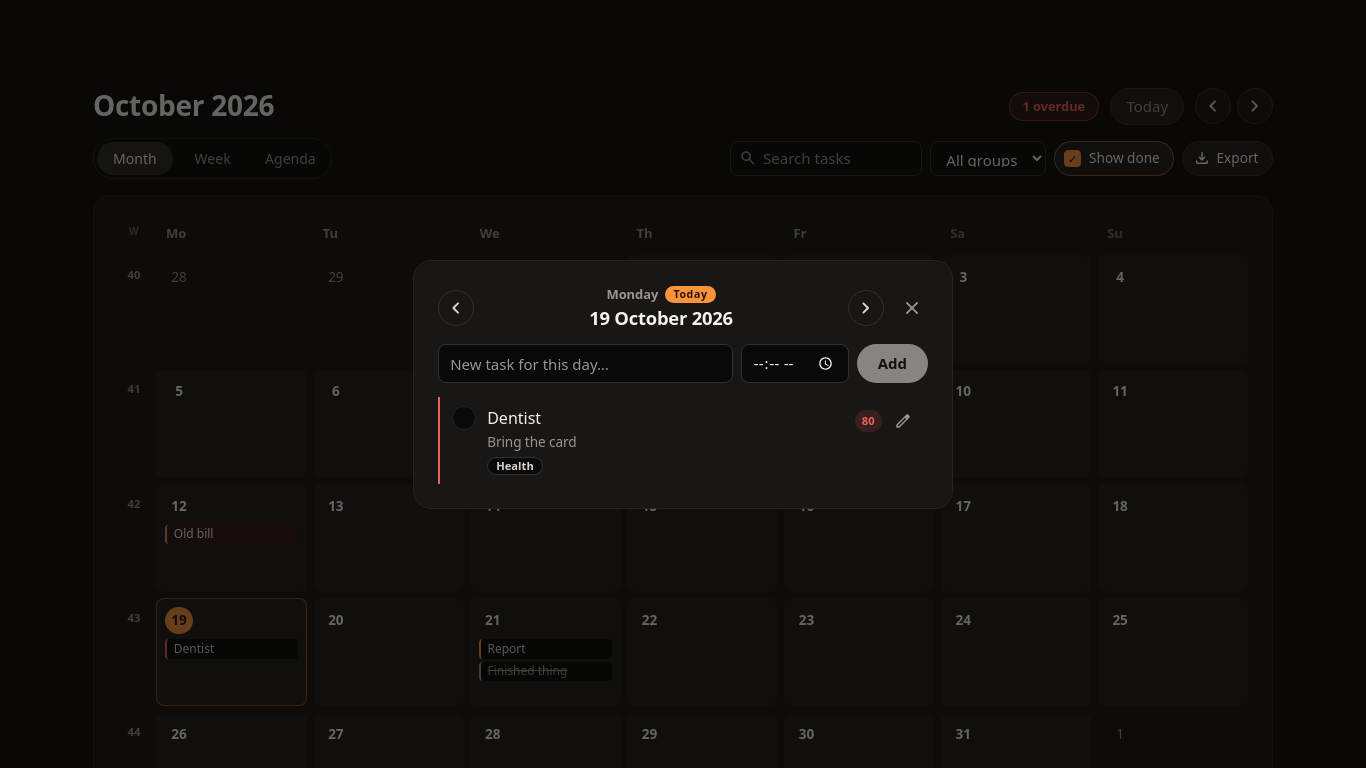
Test: day panel › opens from the address, goes to the next day and closes with Escape
This screenshot has width=1366, height=768.
Expected: the dialog shows "19 October 2026", [589,305,733,330]
Click the button named "Next day": (866, 307) [848,289,884,325]
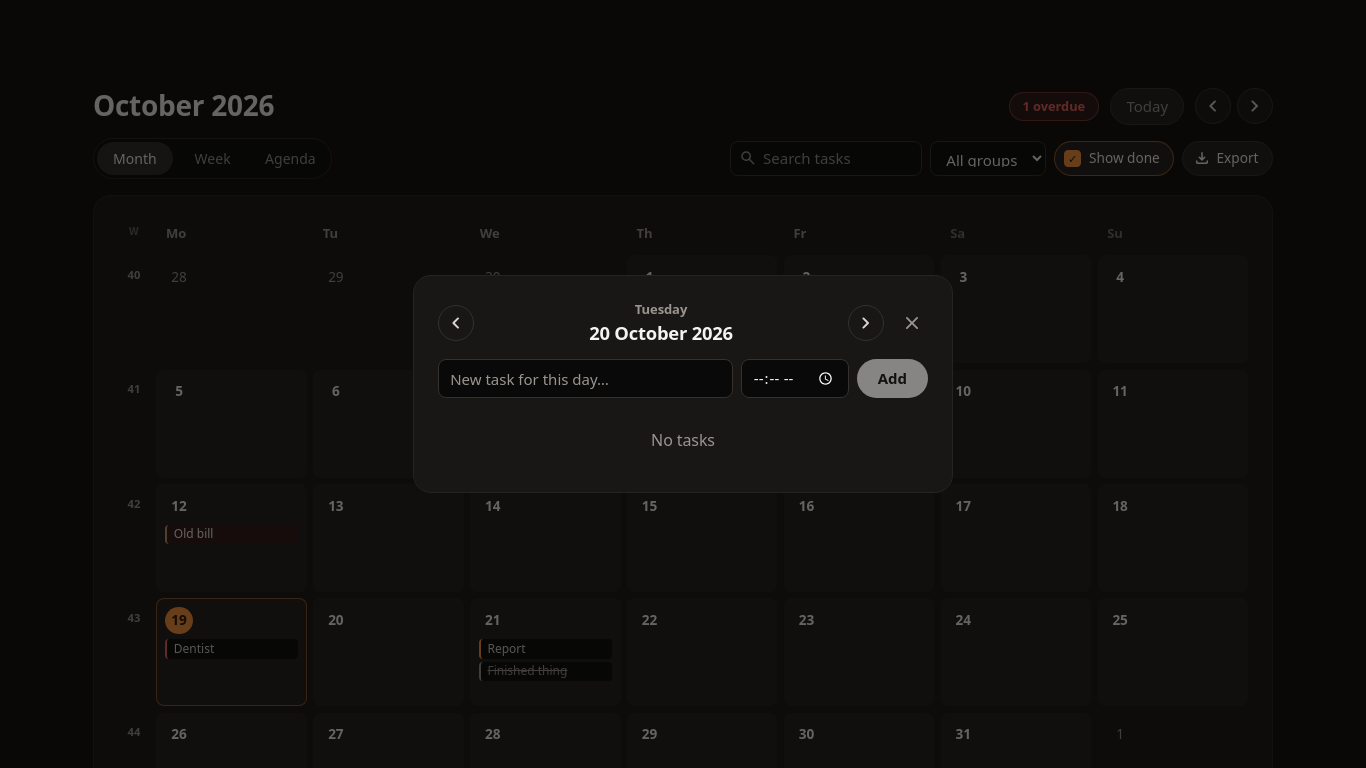
Now the dialog shows "20 October 2026", box [589,320,733,345]
Press Escape
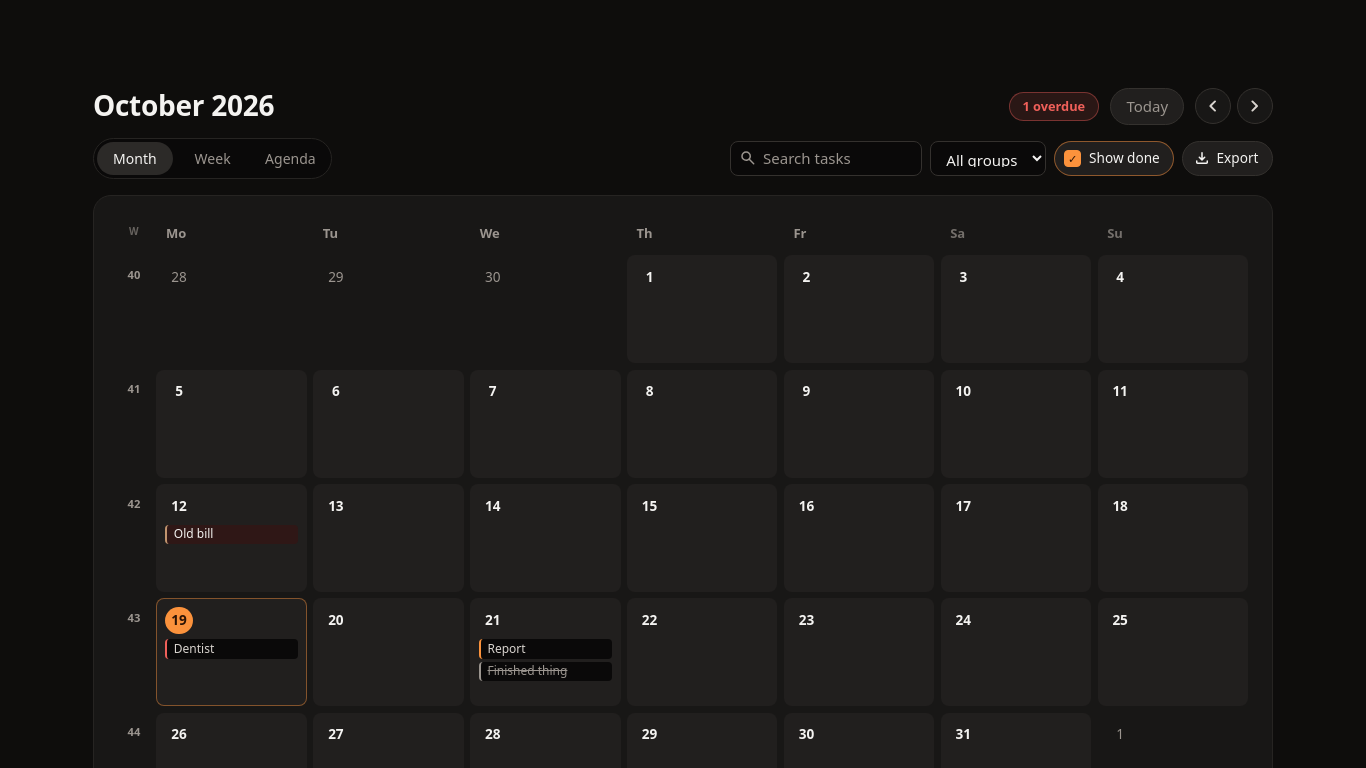
Now the dialog is gone
